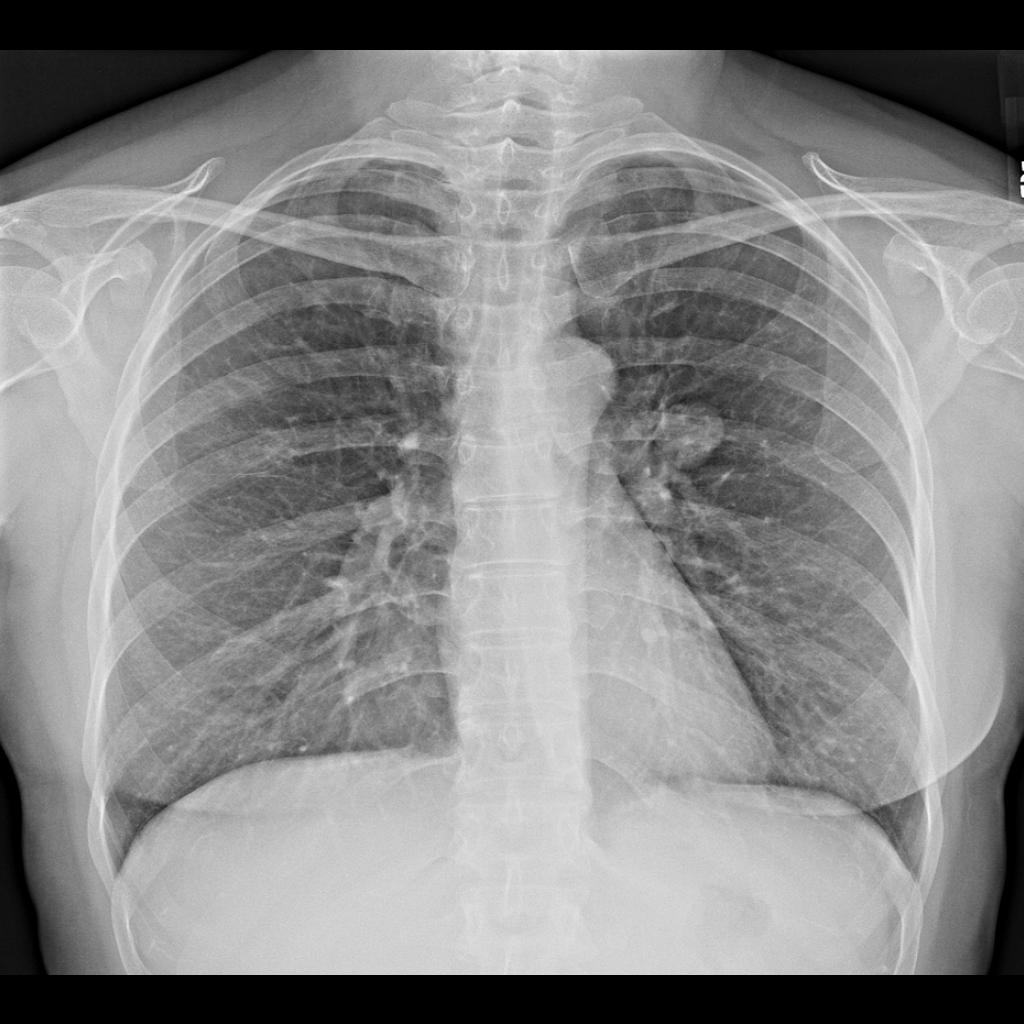Nodule: (646, 404, 727, 475)
